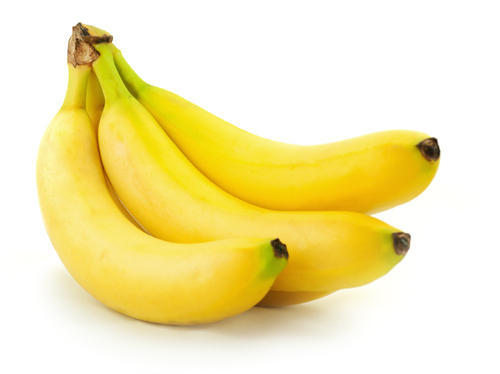looks_good: (29, 13, 487, 359)
